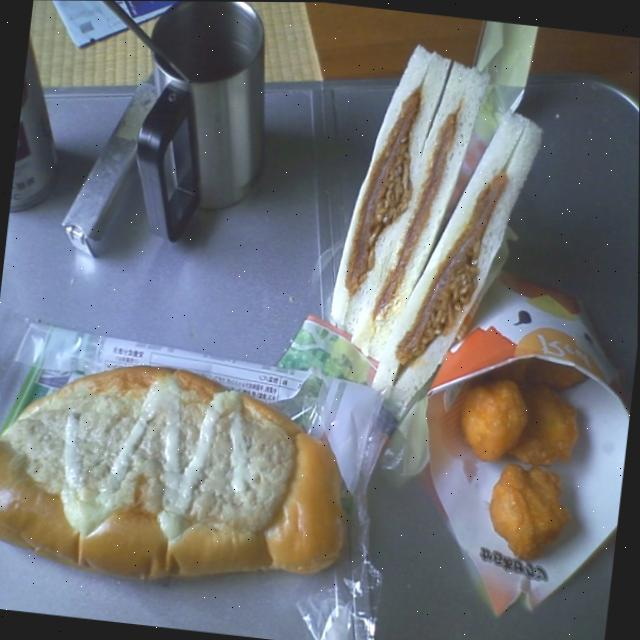三明治: (288, 35, 571, 431), (0, 345, 387, 604)
鸡肉料理 含炸鸡: (421, 332, 618, 568)
